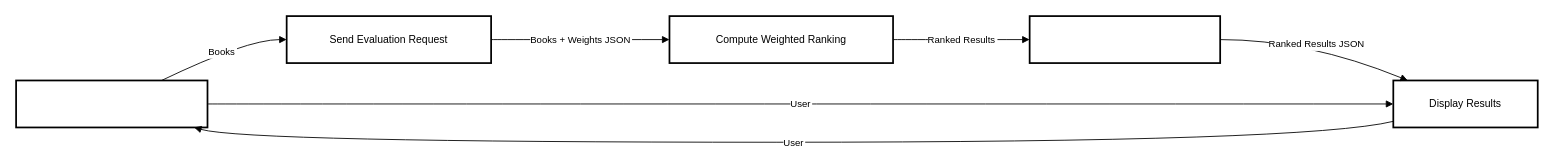
Image size: 1553x163. Some labels were removed from this diagram. The shapes that lost their labels are listed below. From the top down, each one's centre as x and y in pixels, then its label:
At point 1124,39: "Return Ranked Results".
At point 111,103: "Enter Books & Criteria".
